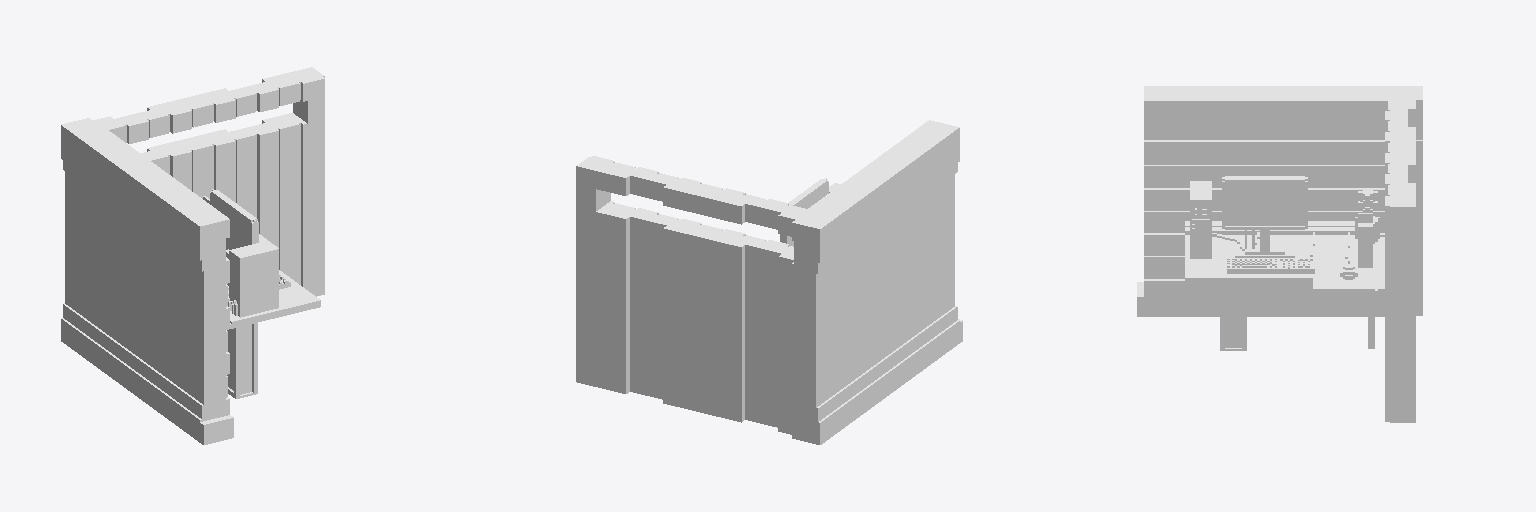
Rendered from escritorio.obj.
3 views of the same model, side by side, from view 1: azimuth 30°, elevation 25°; view 2: azimuth 150°, elevation 25°; view 3: azimuth 270°, elevation 25° (orthographic).
Parts seen in each view (by area): view 1: object 1; view 2: object 1; view 3: object 1.
Boxes of the visible parts, box(x1,y1,x2,y2) form: object 1: box(61, 67, 324, 444); object 1: box(576, 120, 962, 444); object 1: box(1137, 86, 1422, 422).
Size of the model in its own units: 11.4 by 9.6 by 11.4.